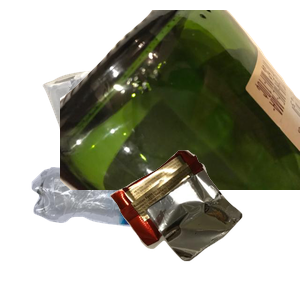glass: (60, 10, 300, 190)
paper: (40, 35, 249, 187)
plastic: (29, 165, 227, 300)
trash: (107, 148, 300, 300)
